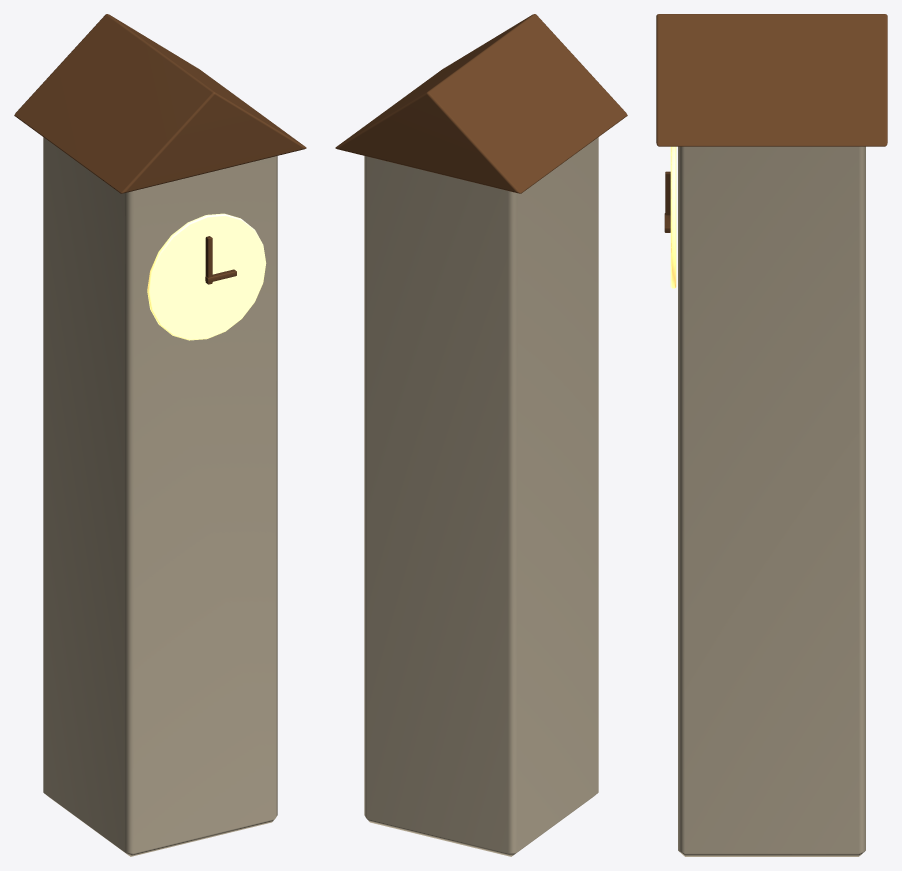
The model's file is clock_tower.glb.
3 renders of one model, left to right at view 1: azimuth 30°, elevation 25°; view 2: azimuth 150°, elevation 25°; view 3: azimuth 270°, elevation 25°, orthographic. The views are drawn at different scales.
Parts seen in each view (by area): view 1: clock_tower; view 2: clock_tower; view 3: clock_tower.
Boxes of the visible parts, left/top/right/bottom form: clock_tower: left=14, top=14, right=306, bottom=856; clock_tower: left=335, top=14, right=627, bottom=856; clock_tower: left=656, top=14, right=887, bottom=856.
Bounding box in the file's own units: 3.16 × 12.29 × 3.2.
